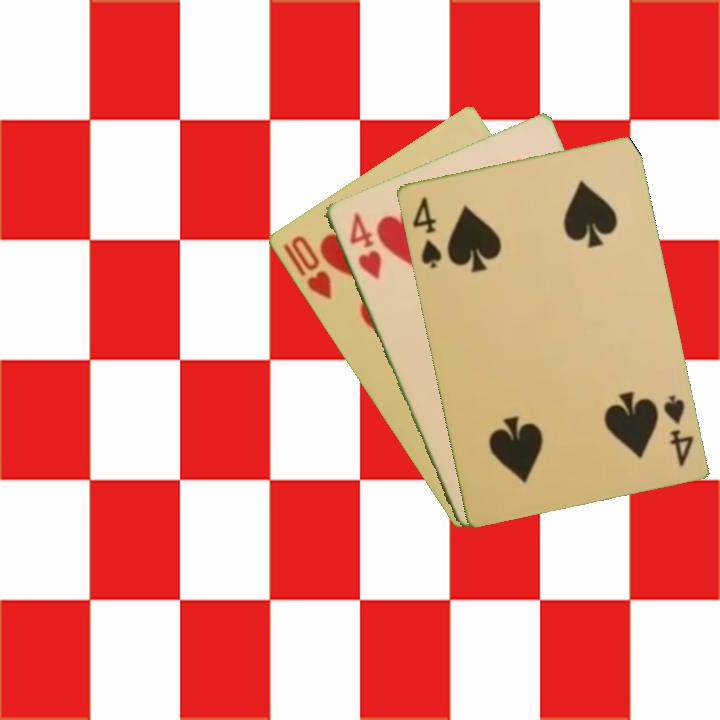10h: (286, 231, 334, 303)
4h: (345, 208, 385, 283)
4s: (659, 391, 696, 469), (408, 192, 444, 271)
